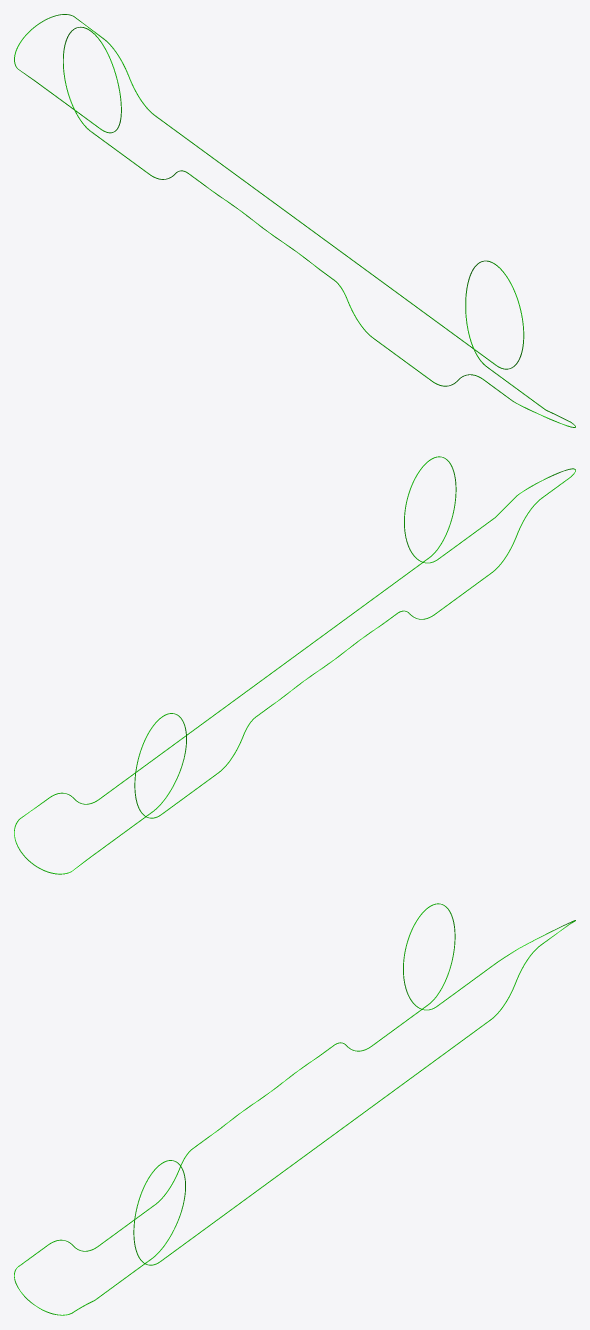
Rendered from pista9.fbx.
The picture shows the model from 3 angles, top to bottom: view 1: azimuth 30°, elevation 25°; view 2: azimuth 150°, elevation 25°; view 3: azimuth 330°, elevation 25°; orthographic projection. The views are drawn at different scales.
Parts seen in each view (by area): view 1: Box013; view 2: no part large enough to name; view 3: Box013.
Boxes of the visible parts, bbox=[...] form: Box013: bbox=[164, 122, 466, 343]; Box013: bbox=[189, 1026, 481, 1240].
Bounding box in the file's own units: 3250 × 4811 × 46403.
